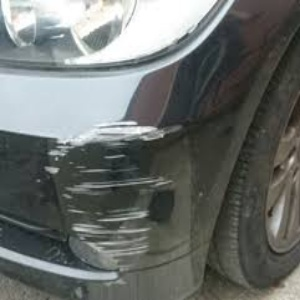bumper_scratch: (37, 109, 179, 288)
